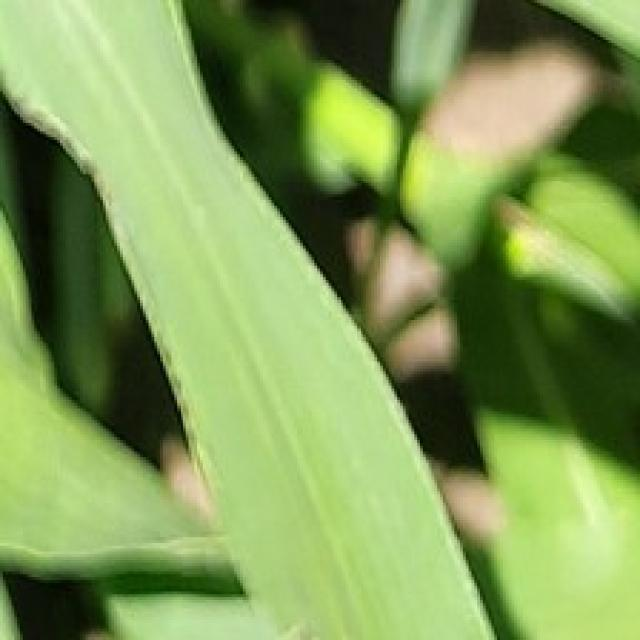Corn: (0, 0, 637, 637), (0, 2, 234, 597)
